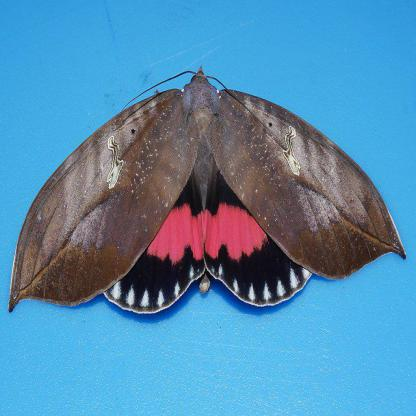fruit sucking moth: (9, 67, 405, 316)
